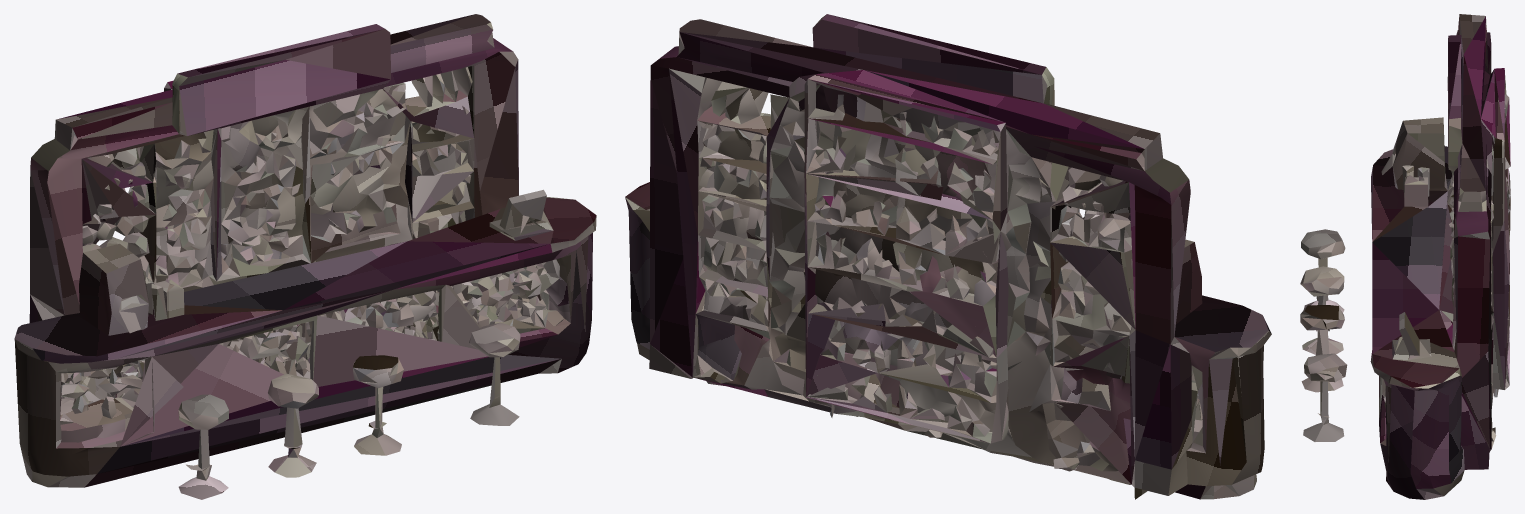
The model's file is prizecounter.glb.
3 views of the same model, side by side, from view 1: azimuth 30°, elevation 25°; view 2: azimuth 150°, elevation 25°; view 3: azimuth 270°, elevation 25° (orthographic). The views are drawn at different scales.
Parts seen in each view (by area): view 1: Mesh_0; view 2: Mesh_0; view 3: Mesh_0.
Boxes of the visible parts, <box> form: Mesh_0: <box>14,14,596,499</box>; Mesh_0: <box>625,14,1271,499</box>; Mesh_0: <box>1300,14,1510,499</box>.
Bounding box in the file's own units: 1.89 × 1.12 × 0.699.
1 material, 1 textured.
